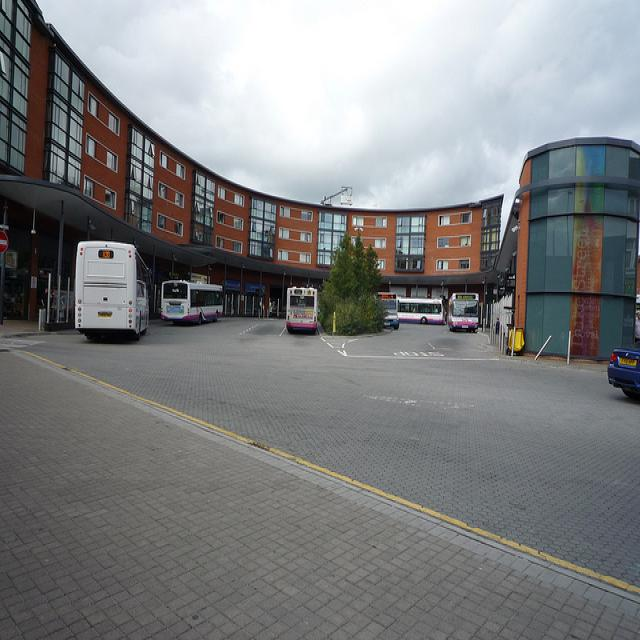Vehicle: (75, 239, 155, 342), (158, 283, 232, 323), (606, 345, 640, 404), (397, 298, 448, 327), (286, 288, 317, 332), (448, 294, 480, 334), (378, 293, 399, 329)
